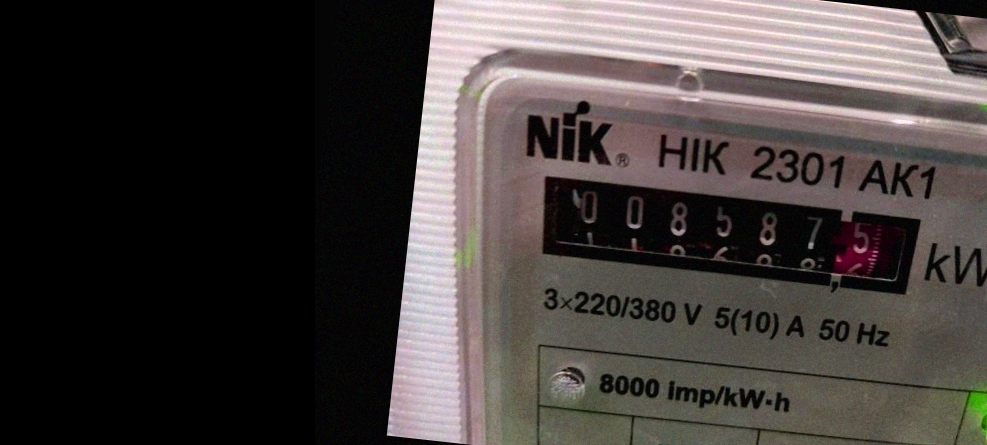0: (620, 189, 648, 231)
1: (574, 184, 603, 227)
5: (848, 215, 876, 257), (711, 200, 738, 240)
7: (799, 211, 826, 254)
8: (664, 196, 693, 239), (755, 206, 780, 249)
screen: (514, 153, 942, 317)
